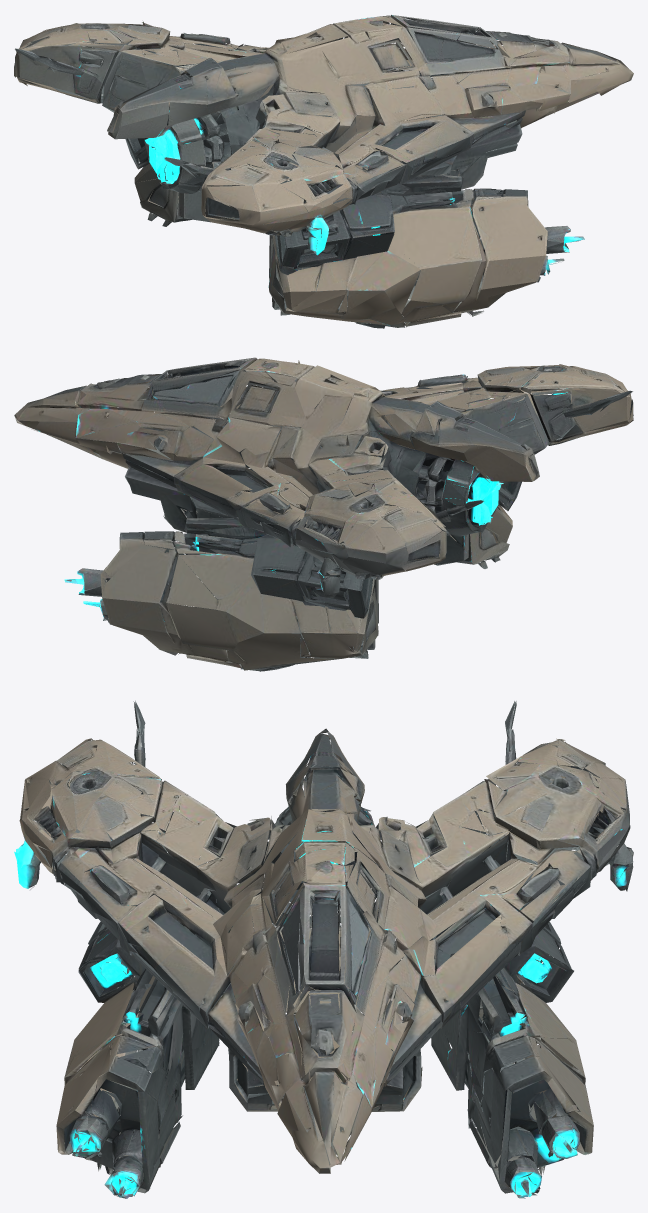
The model's file is relativistic_enemy_ship.glb.
3 views of the same model, one above another, from view 1: azimuth 30°, elevation 25°; view 2: azimuth 150°, elevation 25°; view 3: azimuth 270°, elevation 25° (orthographic). The views are drawn at different scales.
Visible parts, largest first — view 1: RelativisticEnemyShip; view 2: RelativisticEnemyShip; view 3: RelativisticEnemyShip.
Boxes of the visible parts, x1,y1,x2,y2 form: RelativisticEnemyShip: [14, 15, 633, 328]; RelativisticEnemyShip: [14, 357, 633, 671]; RelativisticEnemyShip: [14, 700, 633, 1198].
Size of the model in its own units: 6 by 2.52 by 4.64.
Materials: 1 (1 with a texture image).
